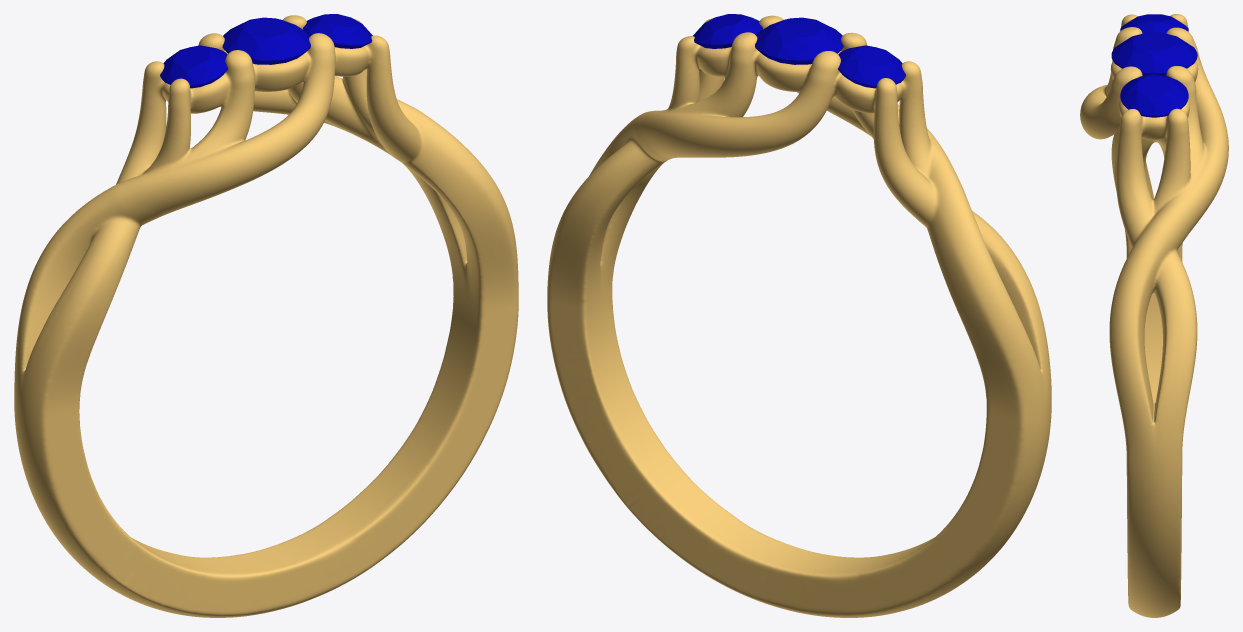
The picture shows the model from 3 angles, left to right: view 1: azimuth 30°, elevation 25°; view 2: azimuth 150°, elevation 25°; view 3: azimuth 270°, elevation 25°; orthographic projection. The views are drawn at different scales.
Visible parts, largest first — view 1: Ijewel-Render.3dm, Diamond_Round (×3); view 2: Ijewel-Render.3dm, Diamond_Round (×3); view 3: Ijewel-Render.3dm, Diamond_Round (×3).
Part boxes in pixels (x1,y1,x2,y2): Ijewel-Render.3dm: (14,15,518,617); Diamond_Round (×3): (160,14,372,88); Ijewel-Render.3dm: (547,15,1051,617); Diamond_Round (×3): (693,14,905,88); Ijewel-Render.3dm: (1080,14,1228,617); Diamond_Round (×3): (1111,14,1197,117).
Bounding box in the file's own units: 2.61 × 2.94 × 0.7203.
